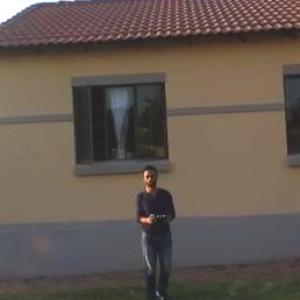follow: (133, 154, 186, 298)
